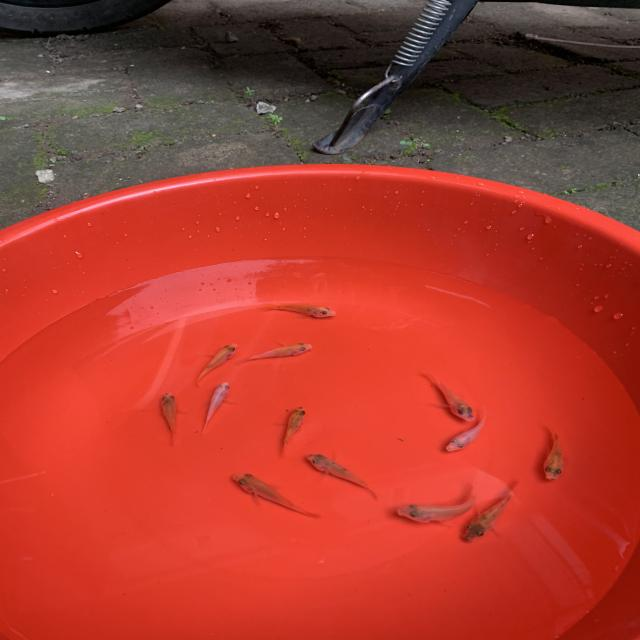nila: (378, 475, 490, 537), (228, 466, 322, 520), (451, 480, 526, 545), (300, 451, 384, 502), (417, 366, 480, 420), (269, 398, 309, 462), (192, 339, 239, 392), (234, 338, 316, 367), (198, 376, 234, 441), (443, 410, 496, 452), (156, 388, 190, 449), (260, 300, 341, 322), (537, 419, 567, 478)
